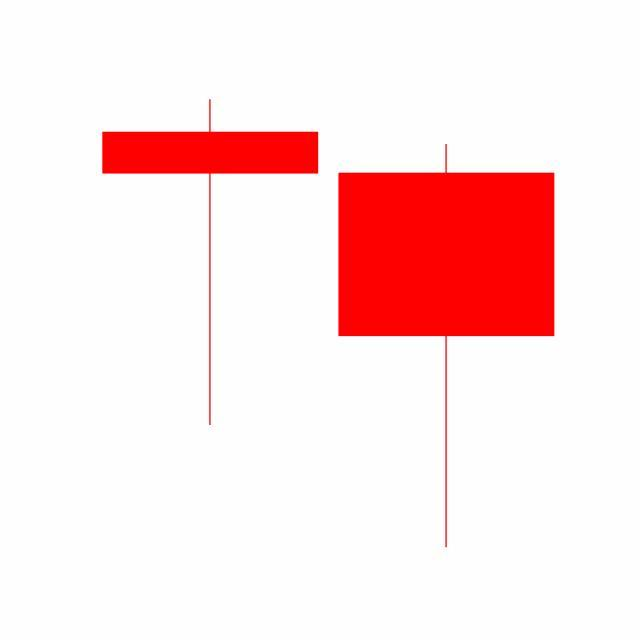Hanging Man: (328, 141, 566, 553)
